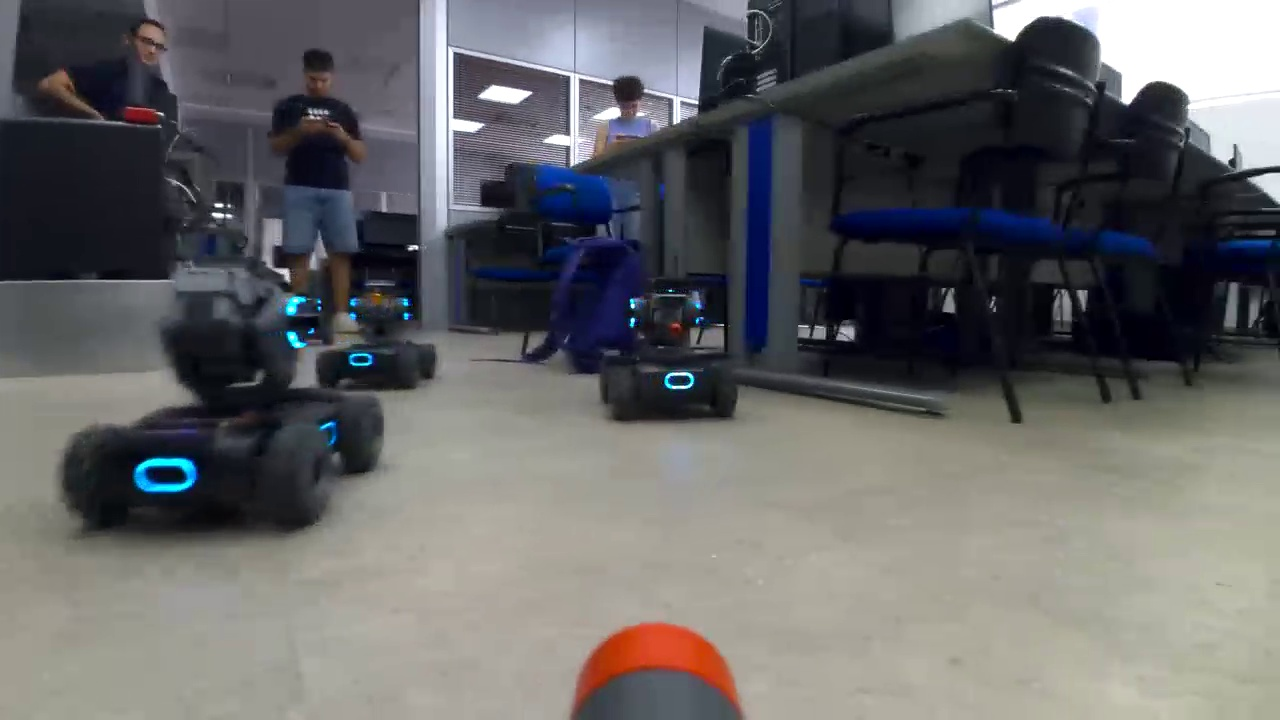robot: (53, 241, 402, 537), (598, 287, 744, 424), (318, 271, 441, 396)
